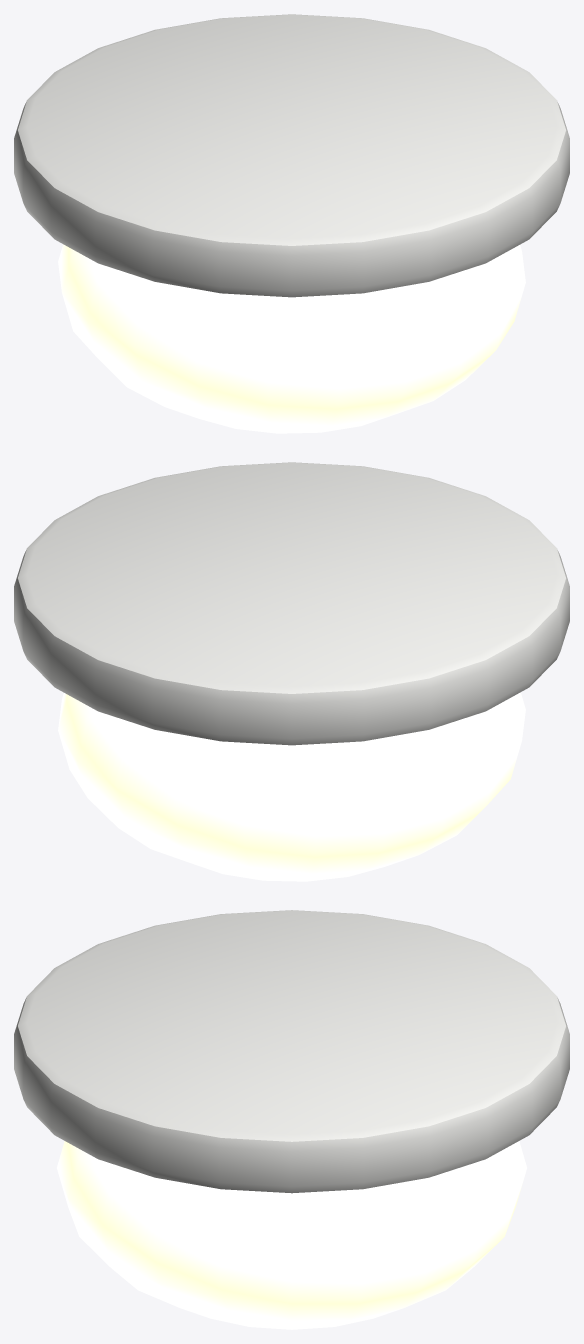
The model's file is plafon_varanda.glb.
3 views of the same model, one above another, from view 1: azimuth 30°, elevation 25°; view 2: azimuth 150°, elevation 25°; view 3: azimuth 270°, elevation 25° (orthographic).
Visible parts, largest first — view 1: plafon_varanda; view 2: plafon_varanda; view 3: plafon_varanda.
Part boxes in pixels (left/top/right/bottom): plafon_varanda: left=14, top=14, right=569, bottom=433; plafon_varanda: left=14, top=462, right=569, bottom=881; plafon_varanda: left=14, top=910, right=569, bottom=1329.
Bounding box in the file's own units: 0.26 × 0.141 × 0.26.
Materials: 2 (1 with a texture image).
